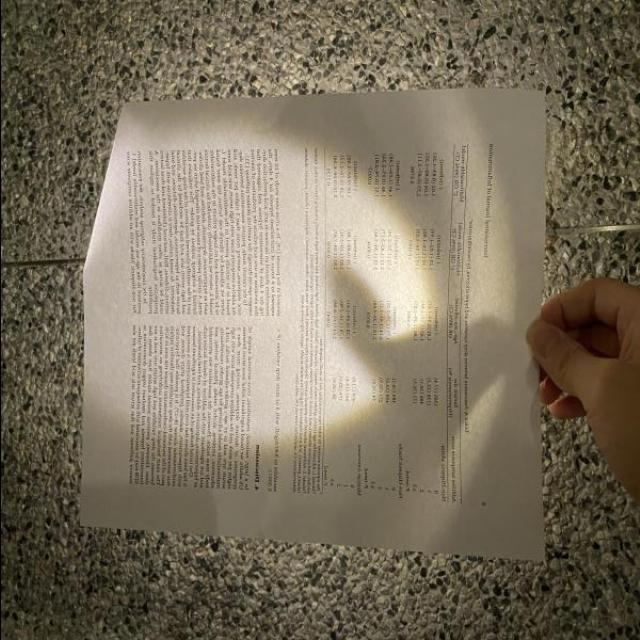kertas: (80, 87, 544, 560)
